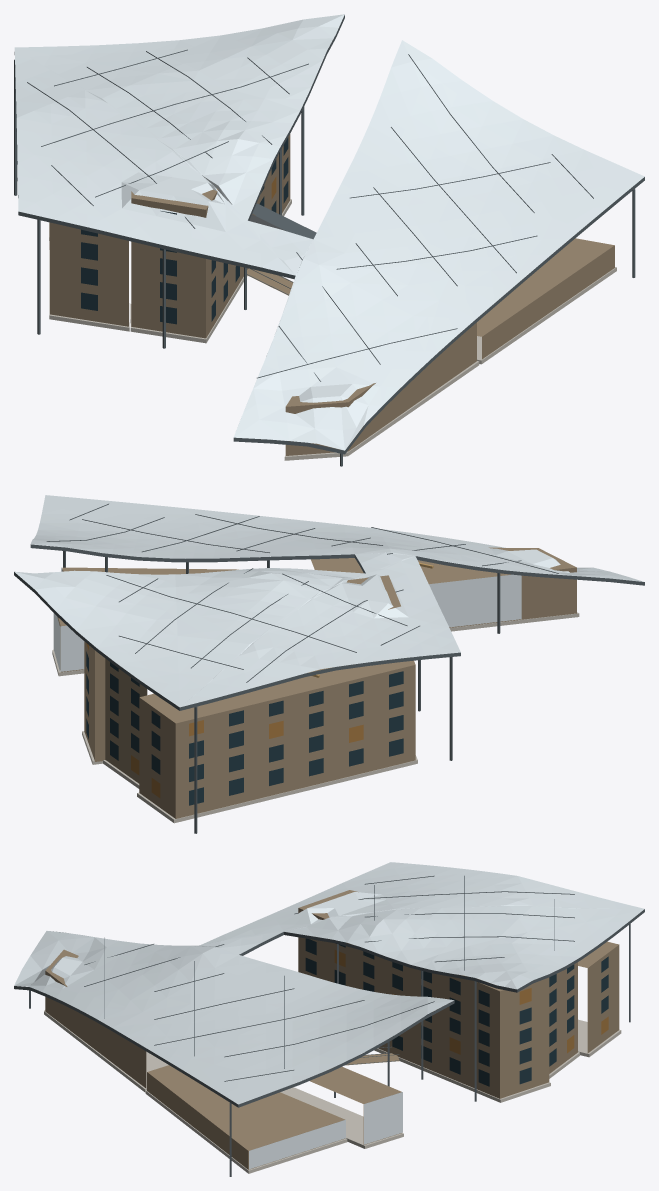
The model's file is astrup-fearnley-museum-far.glb.
3 renders of one model, top to bottom at view 1: azimuth 30°, elevation 25°; view 2: azimuth 150°, elevation 25°; view 3: azimuth 270°, elevation 25°, orthographic. The views are drawn at different scales.
Visible parts, largest first — view 1: astrup-fearnley-museum-0-glass, astrup-fearnley-museum-0-timber, astrup-fearnley-museum-0-steel, astrup-fearnley-museum-0-concrete, astrup-fearnley-museum-0-windowGlass; view 2: astrup-fearnley-museum-0-glass, astrup-fearnley-museum-0-timber, astrup-fearnley-museum-0-steel, astrup-fearnley-museum-0-windowGlass, astrup-fearnley-museum-0-concrete, astrup-fearnley-museum-0-glow; view 3: astrup-fearnley-museum-0-glass, astrup-fearnley-museum-0-timber, astrup-fearnley-museum-0-steel, astrup-fearnley-museum-0-windowGlass, astrup-fearnley-museum-0-concrete, astrup-fearnley-museum-0-glow.
Part boxes in pixels (box(x1,y1,x2,y2)): astrup-fearnley-museum-0-glass: box(14, 14, 644, 450); astrup-fearnley-museum-0-timber: box(49, 134, 614, 455); astrup-fearnley-museum-0-steel: box(14, 15, 644, 466); astrup-fearnley-museum-0-concrete: box(49, 199, 616, 460); astrup-fearnley-museum-0-windowGlass: box(81, 137, 288, 324); astrup-fearnley-museum-0-glass: box(14, 495, 643, 707); astrup-fearnley-museum-0-timber: box(57, 547, 576, 818); astrup-fearnley-museum-0-steel: box(14, 503, 644, 833); astrup-fearnley-museum-0-windowGlass: box(86, 651, 403, 805); astrup-fearnley-museum-0-concrete: box(52, 612, 579, 823); astrup-fearnley-museum-0-glow: box(86, 643, 363, 797); astrup-fearnley-museum-0-glass: box(14, 862, 644, 1169); astrup-fearnley-museum-0-timber: box(45, 890, 619, 1169); astrup-fearnley-museum-0-steel: box(14, 875, 644, 1176); astrup-fearnley-museum-0-windowGlass: box(305, 938, 608, 1086); astrup-fearnley-museum-0-concrete: box(44, 1010, 621, 1173); astrup-fearnley-museum-0-glow: box(334, 950, 608, 1054).
Bounding box in the file's own units: 84.56 × 25.12 × 103.
